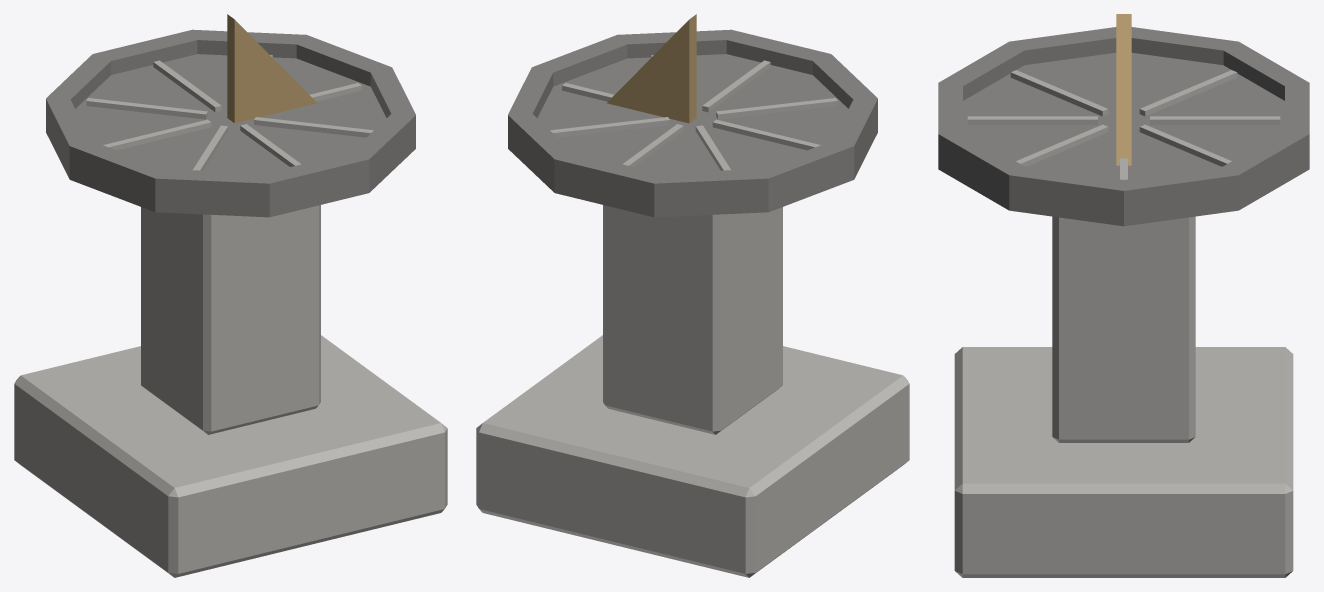
The model's file is prop-sundial-stone.fbx.
The picture shows the model from 3 angles, left to right: view 1: azimuth 30°, elevation 25°; view 2: azimuth 150°, elevation 25°; view 3: azimuth 270°, elevation 25°; orthographic projection. The views are drawn at different scales.
Visible parts, largest first — view 1: prop-sundial-stone; view 2: prop-sundial-stone; view 3: prop-sundial-stone.
Boxes of the visible parts, x1,y1,x2,y2 form: prop-sundial-stone: (14, 14, 447, 577); prop-sundial-stone: (476, 14, 909, 577); prop-sundial-stone: (938, 14, 1309, 577).
Size of the model in its own units: 0.6 by 0.84 by 0.5706.
